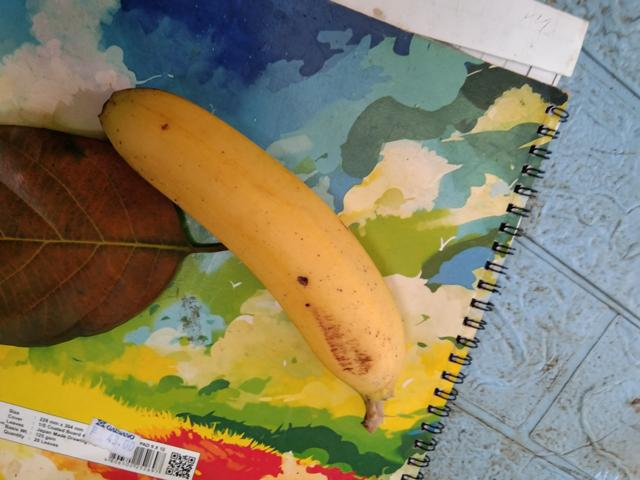freshripe: (91, 80, 407, 398)
